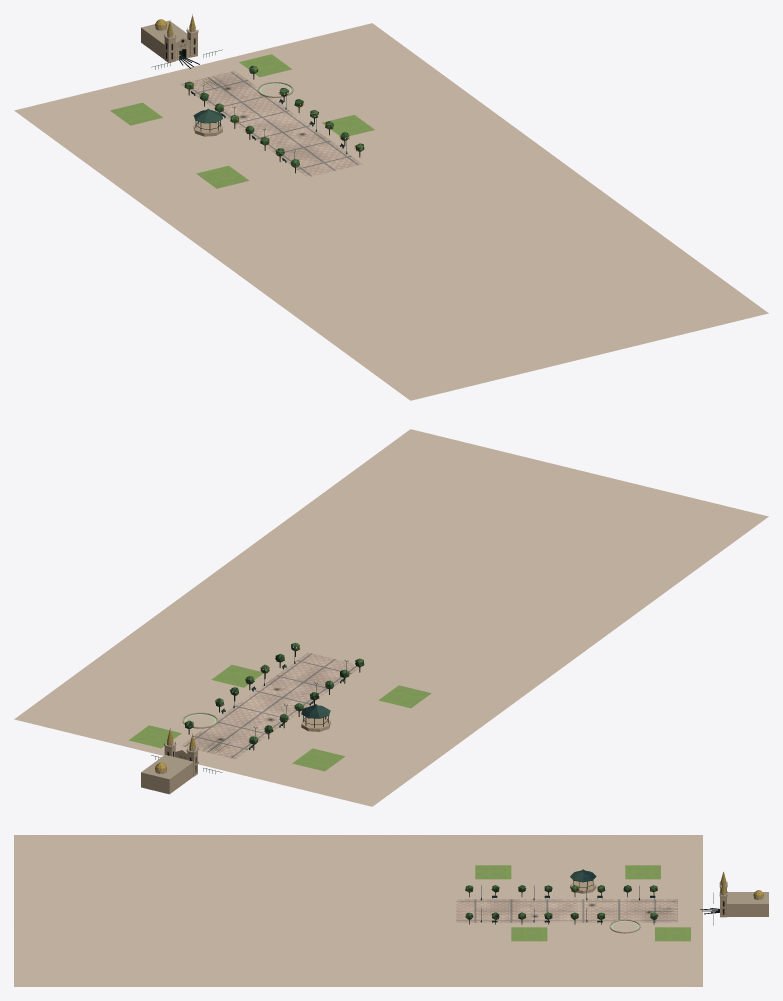
The model's file is lugar-guadalajara.glb.
3 views of the same model, one above another, from view 1: azimuth 30°, elevation 25°; view 2: azimuth 150°, elevation 25°; view 3: azimuth 270°, elevation 25° (orthographic). The views are drawn at different scales.
Visible parts, largest first — view 1: luzG-cerca, luzS-pista, vert-cerca; view 2: luzG-cerca, luzS-pista, vert-cerca; view 3: luzG-cerca, luzS-pista, vert-cerca.
Boxes of the visible parts, box(x1,y1,x2,y2) form: luzG-cerca: box(14, 23, 768, 400); luzS-pista: box(141, 16, 362, 177); vert-cerca: box(151, 14, 364, 173); luzG-cerca: box(14, 429, 768, 806); luzS-pista: box(141, 652, 360, 794); vert-cerca: box(151, 642, 364, 774); luzG-cerca: box(14, 835, 702, 986); luzS-pista: box(456, 872, 768, 933); vert-cerca: box(465, 869, 727, 925).
Bounding box in the file's own units: 120 × 13.3 × 252.
14 materials, 9 textured.
